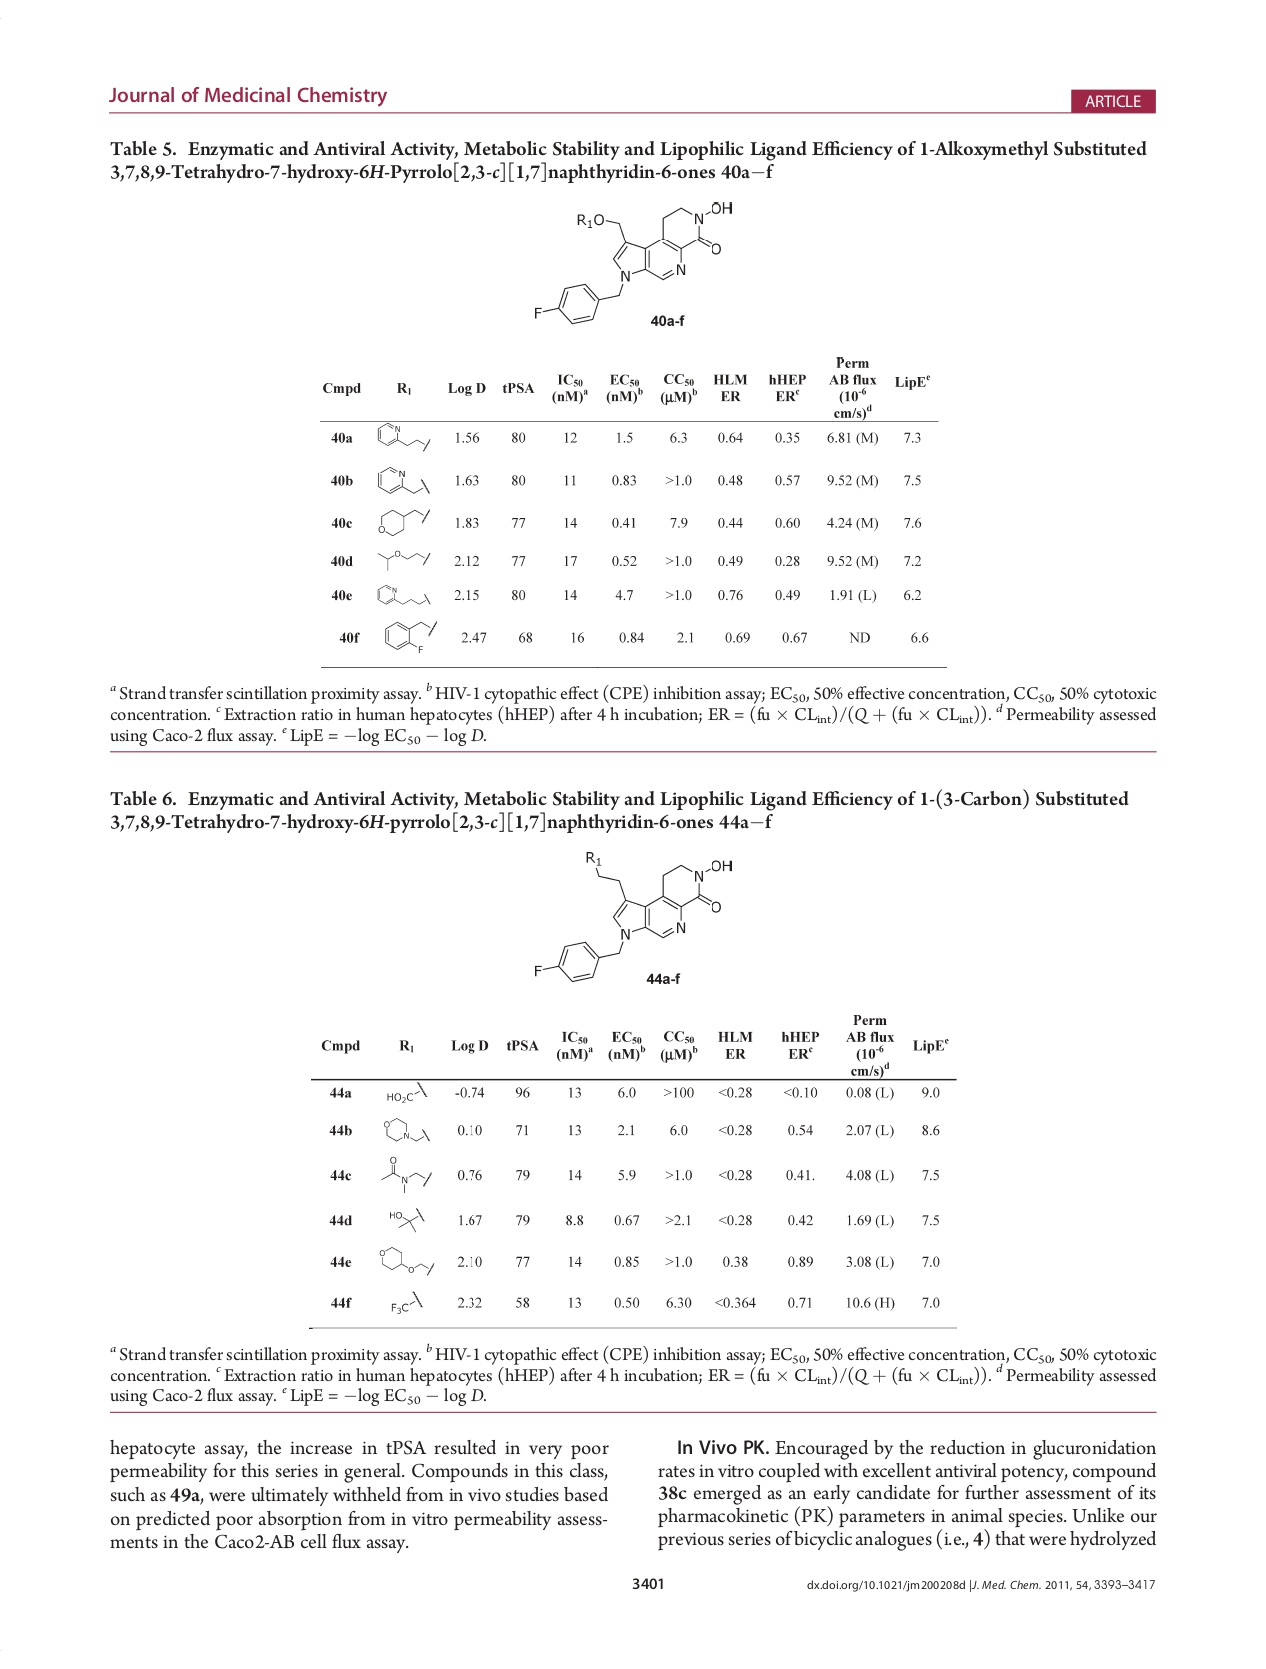exist_molecular: (531, 847, 737, 985), (531, 195, 735, 328), (380, 1152, 434, 1196), (376, 1241, 435, 1279), (383, 618, 438, 654), (375, 464, 431, 499), (374, 578, 435, 609), (375, 505, 431, 539), (375, 422, 432, 453), (382, 1113, 430, 1149), (376, 547, 432, 575), (386, 1204, 424, 1235), (390, 1286, 424, 1318), (386, 1080, 427, 1102)
